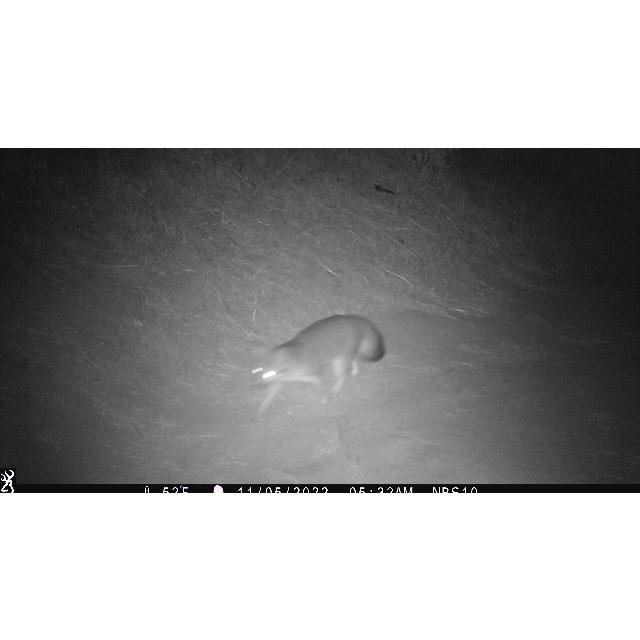animals: (250, 313, 384, 422)
